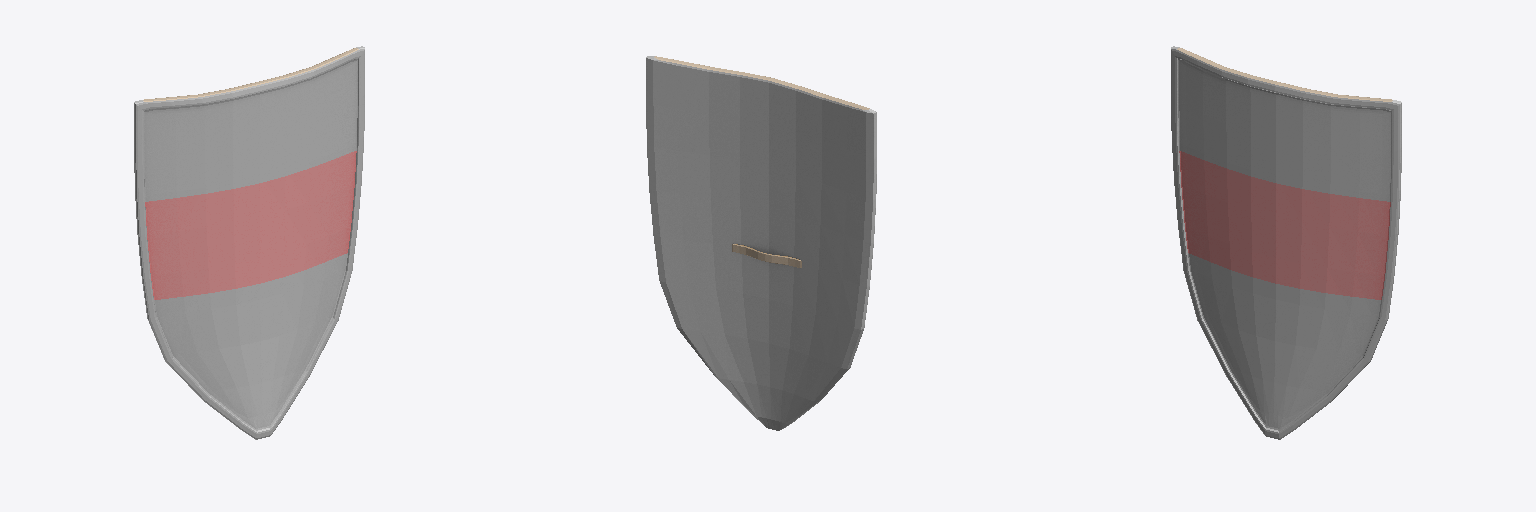
3 views of the same model, side by side, from view 1: azimuth 30°, elevation 25°; view 2: azimuth 150°, elevation 25°; view 3: azimuth 330°, elevation 25° (orthographic).
Visible parts, largest first — view 1: Plane; view 2: Plane; view 3: Plane.
Boxes of the visible parts, x1,y1,x2,y2 form: Plane: [134, 46, 364, 439]; Plane: [646, 56, 876, 430]; Plane: [1171, 46, 1401, 439].
Bounding box in the file's own units: 2.22 × 3.28 × 0.2696.
1 materials, 1 textured.